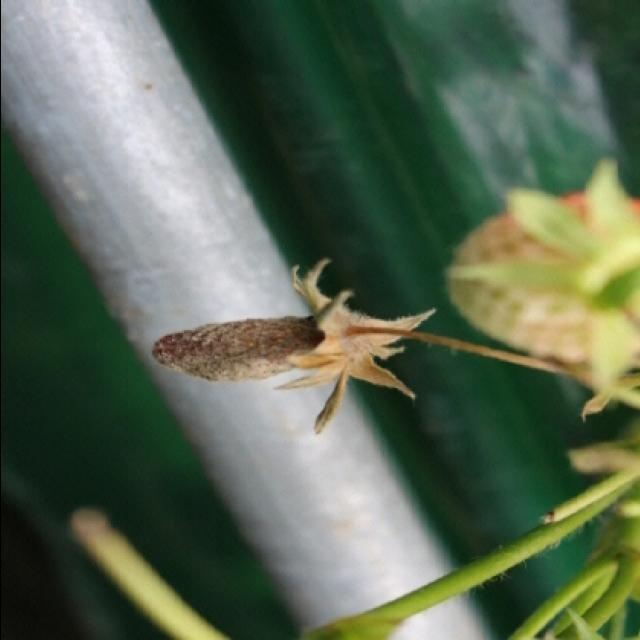Gray Mold: (150, 257, 435, 437)
